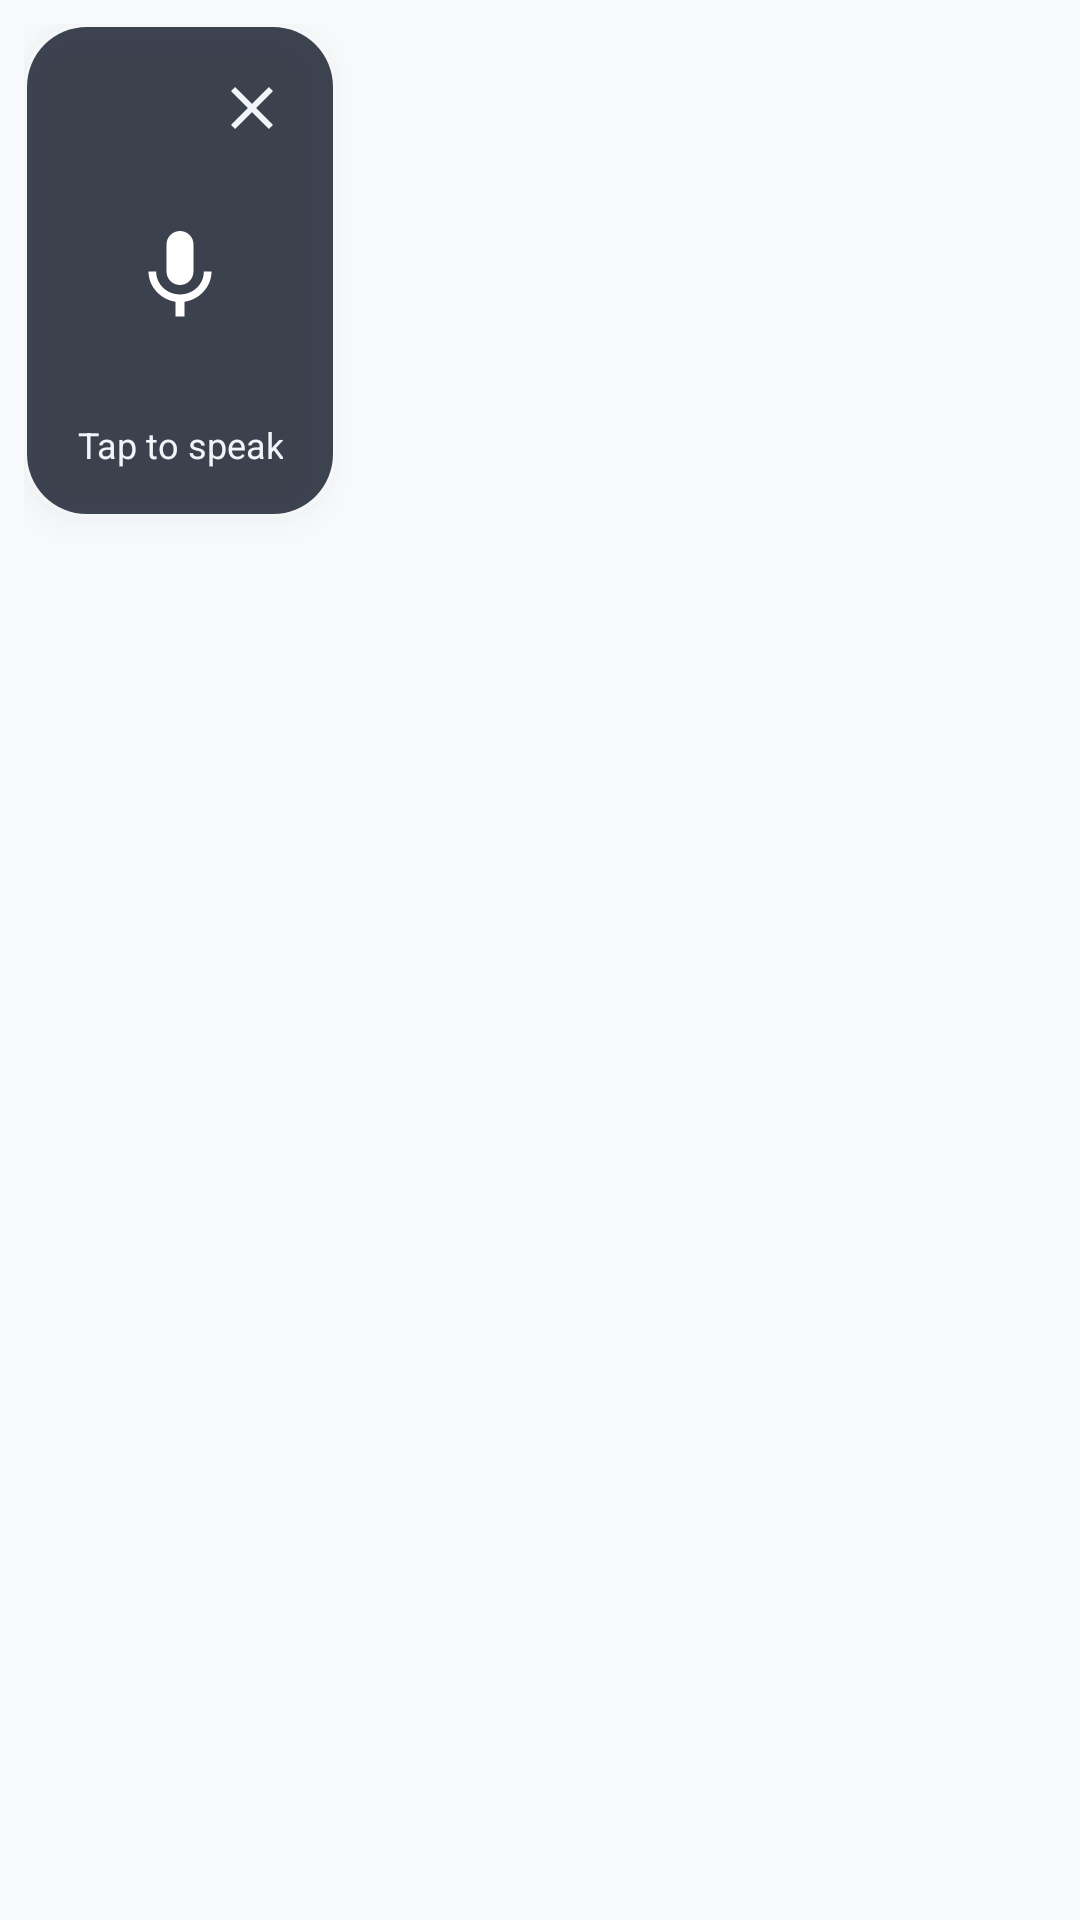

Icons on this 1080 x 1920 Android screen, each with the point to tap as (x,y):
Close overlay: (252,108)
Microphone button: (180,274)
